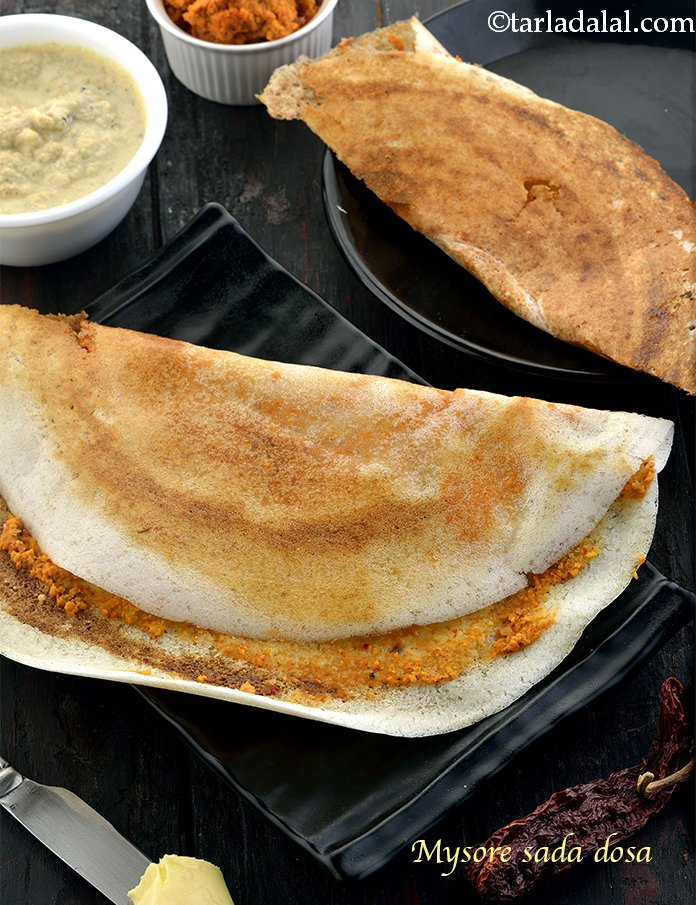dosa: (2, 294, 695, 752)
